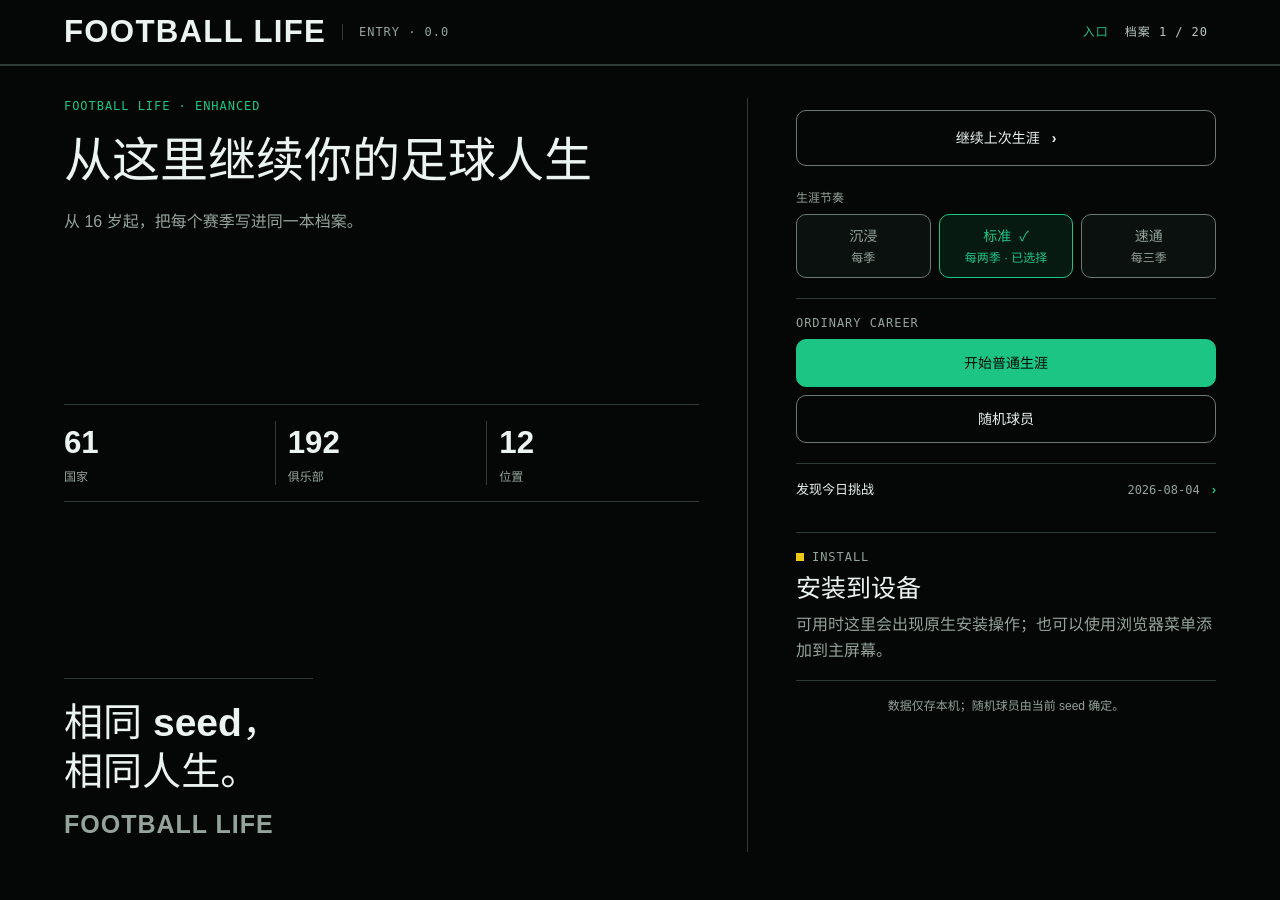
Test: UI mode shells › restarts a completed career with the same Seed without deleting its archive
Click the button "继续上次生涯 ›" at (1006, 138), box [796,110,1216,166]
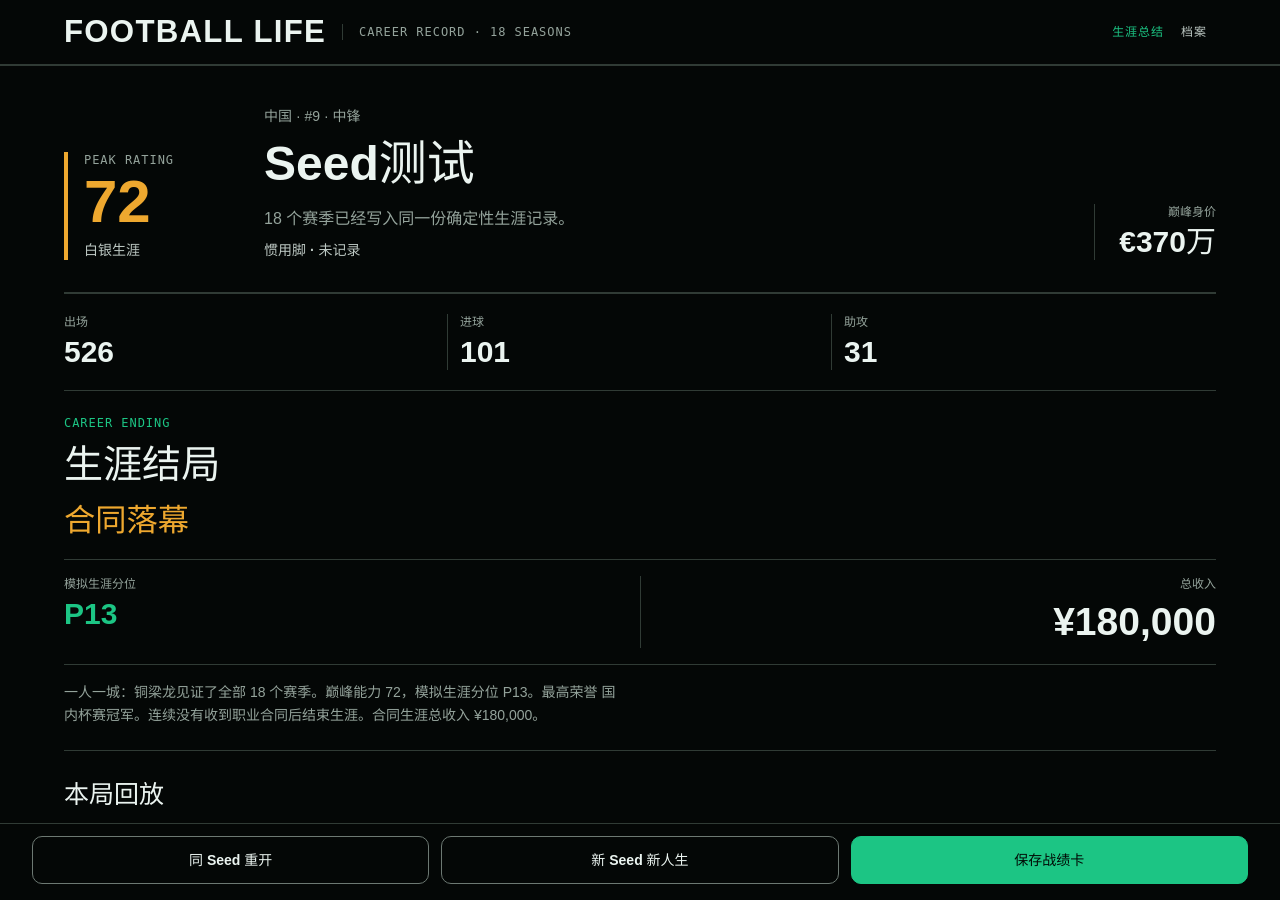
Click the button "同 Seed 重开" at (231, 860), box [32,836,429,884]
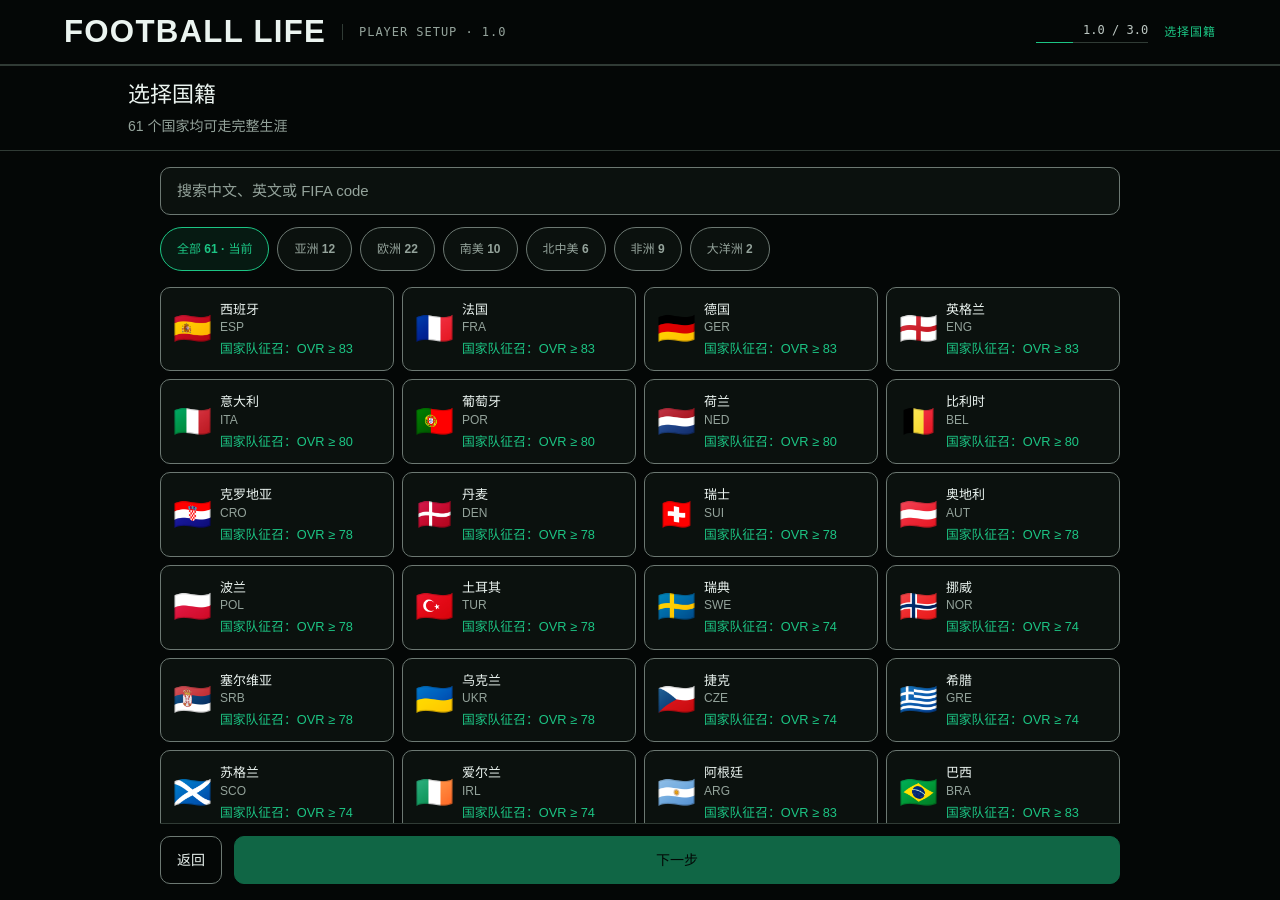
Expected: the heading "选择国籍" is shown, [128,82,216,107]
